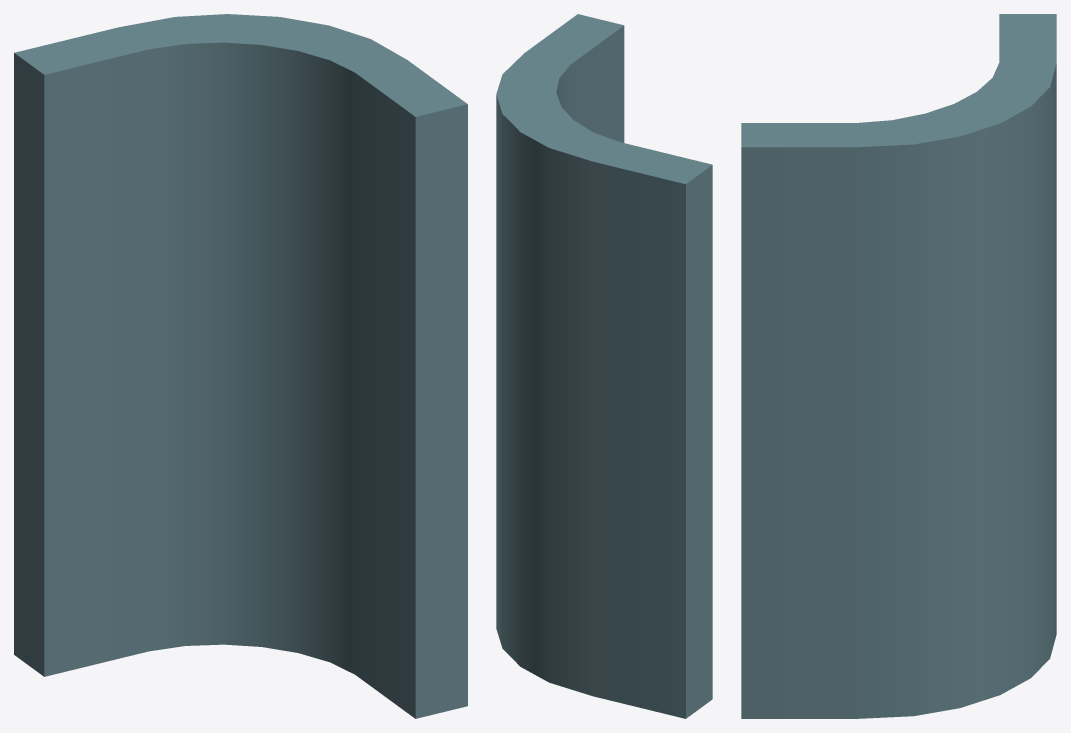
The model's file is W1_WallCorner_Round1A.fbx.
3 renders of one model, left to right at view 1: azimuth 30°, elevation 25°; view 2: azimuth 150°, elevation 25°; view 3: azimuth 270°, elevation 25°, orthographic. The views are drawn at different scales.
Parts seen in each view (by area): view 1: W1_WallCorner_Round1A.001; view 2: W1_WallCorner_Round1A.001; view 3: W1_WallCorner_Round1A.001.
Part boxes in pixels (x1,y1,x2,y2): W1_WallCorner_Round1A.001: [14, 14, 467, 718]; W1_WallCorner_Round1A.001: [496, 14, 712, 718]; W1_WallCorner_Round1A.001: [741, 14, 1056, 718].
Bounding box in the file's own units: 1.1 × 2.2 × 1.1.
